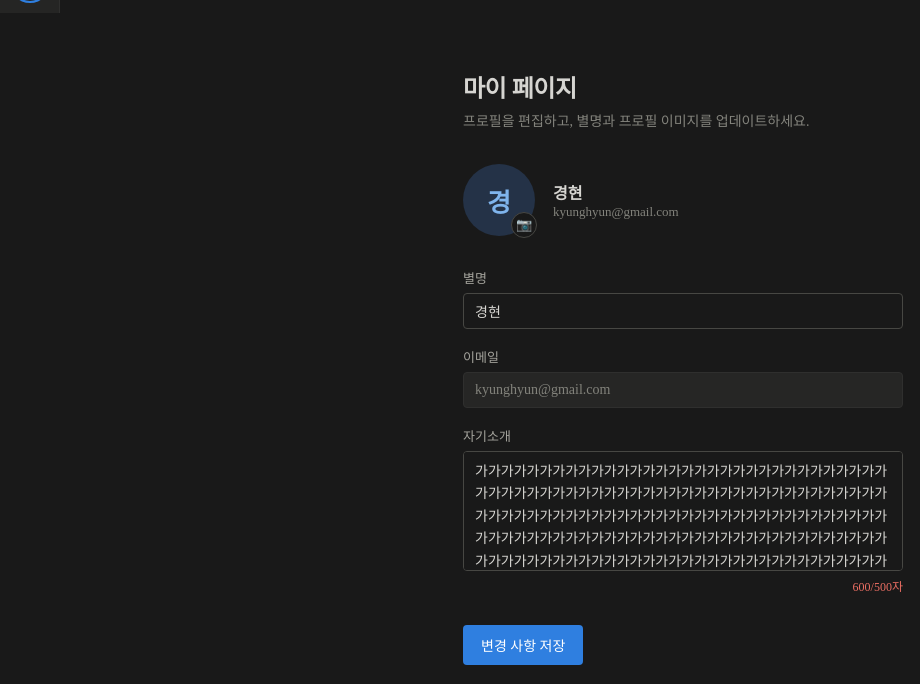
Scenario: 마이페이지 자기소개 — 500자 카운터·한도 (US2) › 500자 초과 상태로 저장하면 요청 없이 한국어 안내를 표시한다
The width and height of the screenshot is (920, 684).
(page scrolled)
Check: the text box with placeholder "자신을 소개하는 글을 남겨보세요" is shown, box [463,451,903,571]
Step 1. Click the button "변경 사항 저장" → (523, 645), box [463,625,583,665]
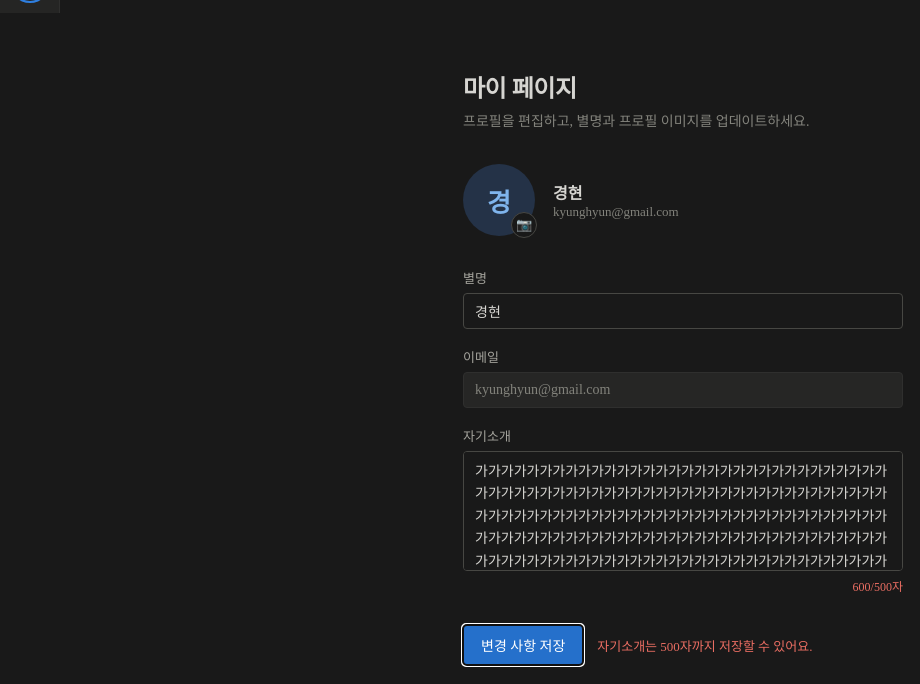
Check: the text "자기소개는 500자까지 저장할 수 있어요." is shown, box [597,636,812,654]
